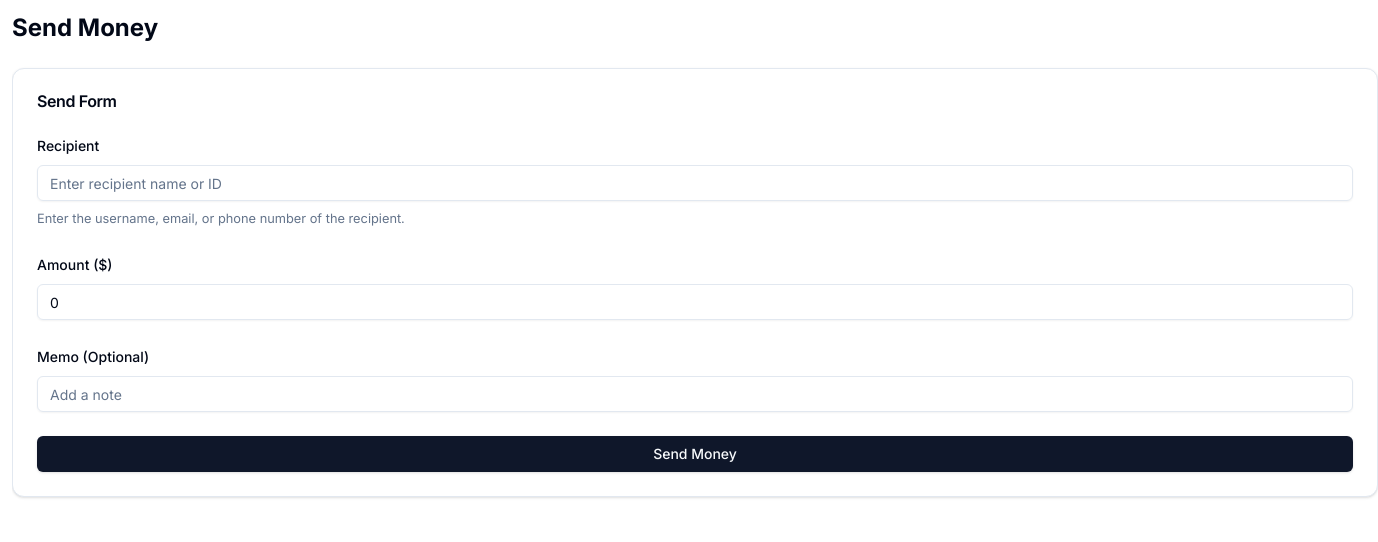
it: SendPage Component › shows validation error for invalid amount
Type "john_doe" into the field labelled "Recipient". click: coordinates (695, 183)
box: [37, 165, 1353, 201]
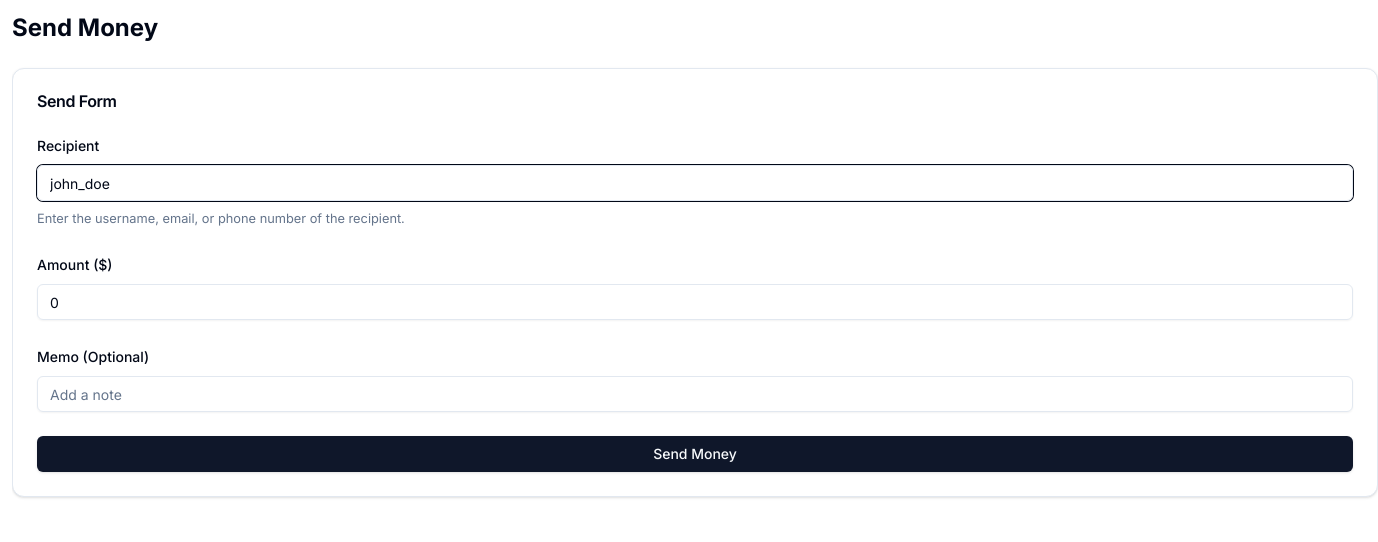
Replace the text in the number field labelled "Amount ($)" with "-10". click: coordinates (695, 302)
box: [37, 284, 1353, 320]
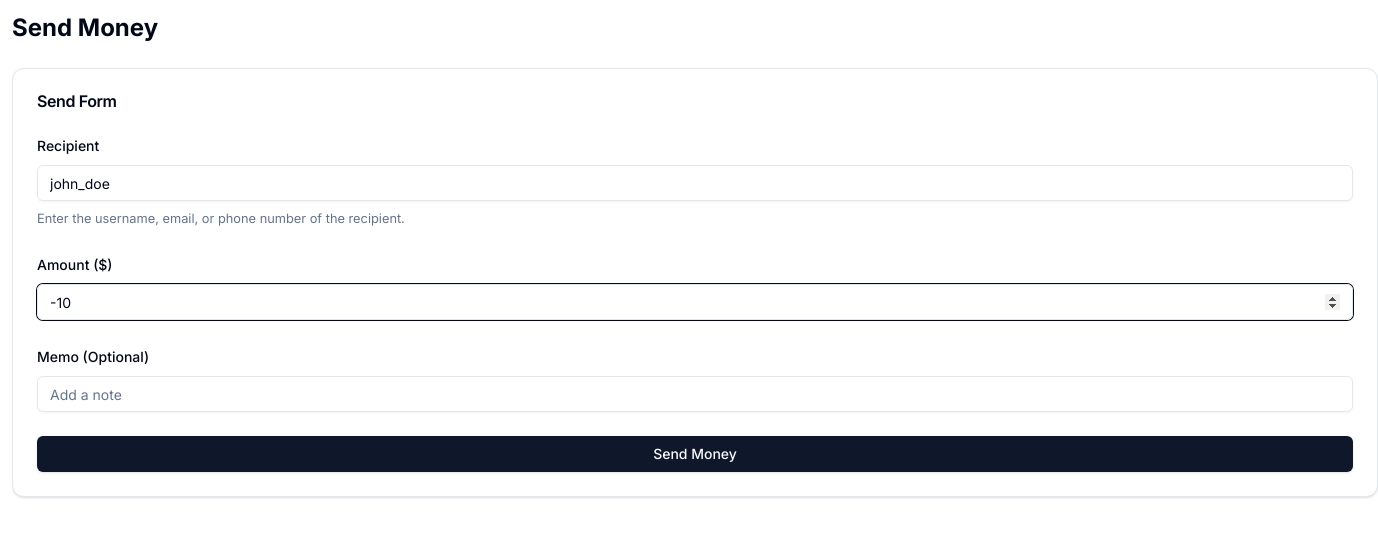
Click the button "Send Money". click: coordinates (695, 454)
box: [37, 436, 1353, 472]
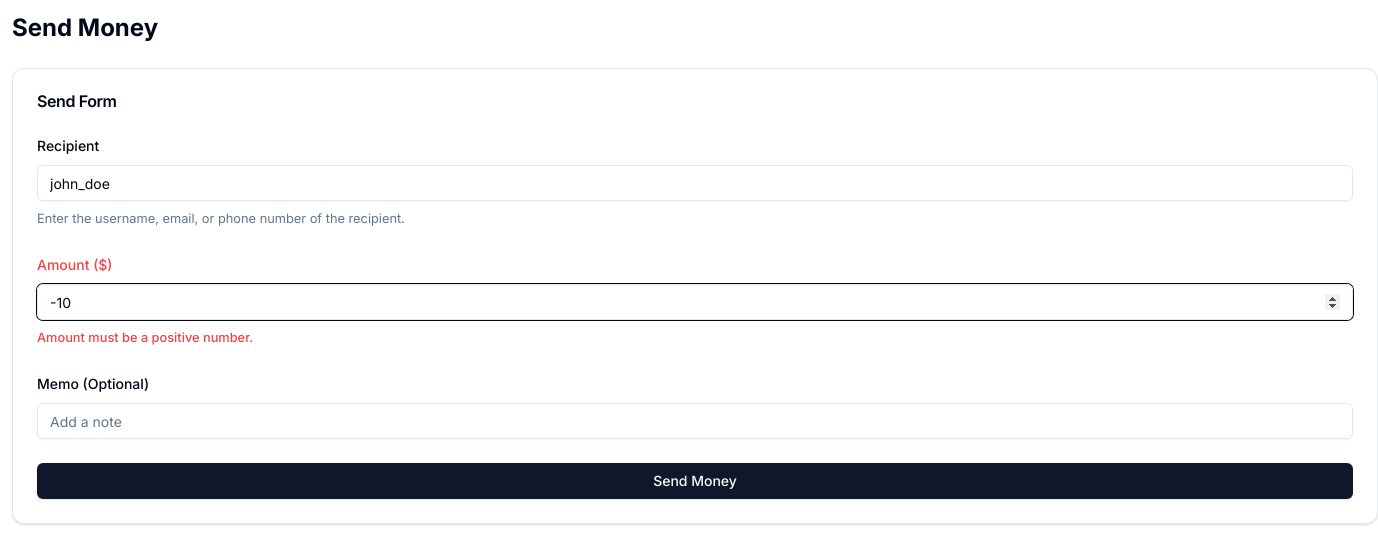
Expected: the text "Amount must be a positive number." is shown, [37, 330, 253, 345]
